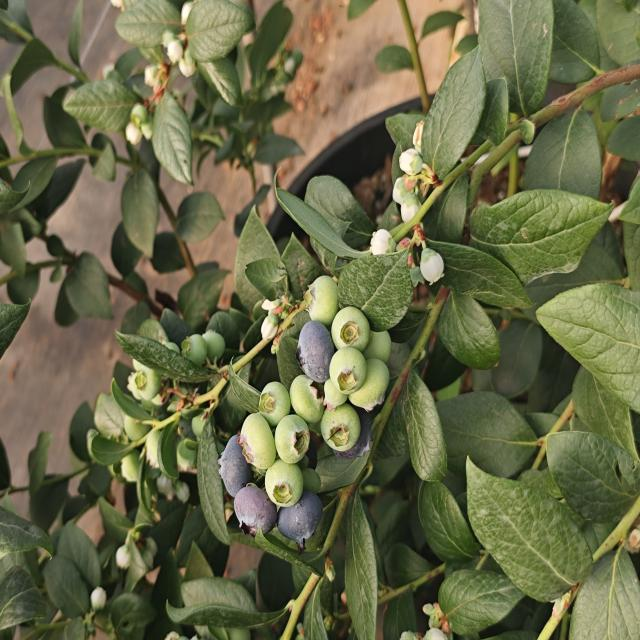ripe: (211, 428, 263, 502), (294, 318, 345, 382), (281, 490, 323, 560), (231, 481, 276, 542), (330, 409, 376, 468)
